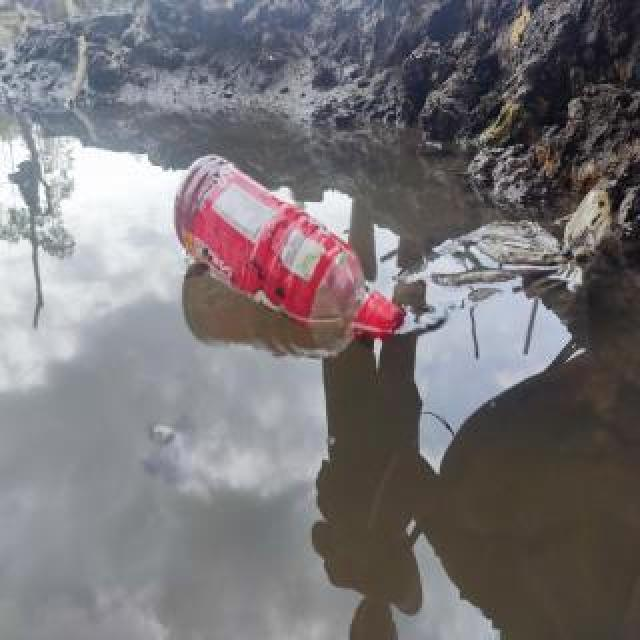bottle: (170, 144, 414, 350)
